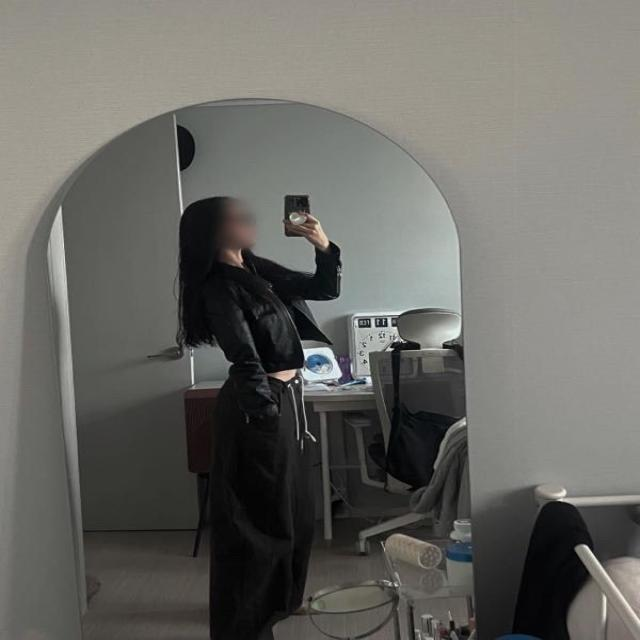denimpants: (207, 366, 322, 640)
jacket: (203, 239, 346, 378)
